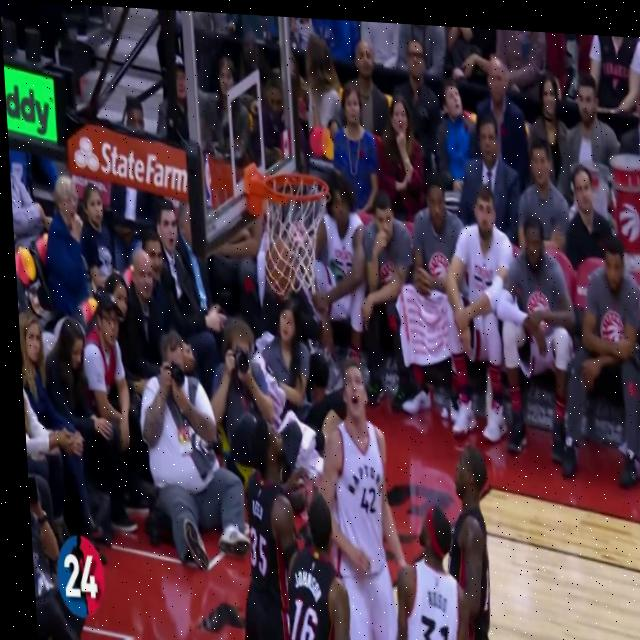basketball: (262, 235, 300, 303)
hoop: (257, 166, 337, 305), (257, 167, 337, 305)
